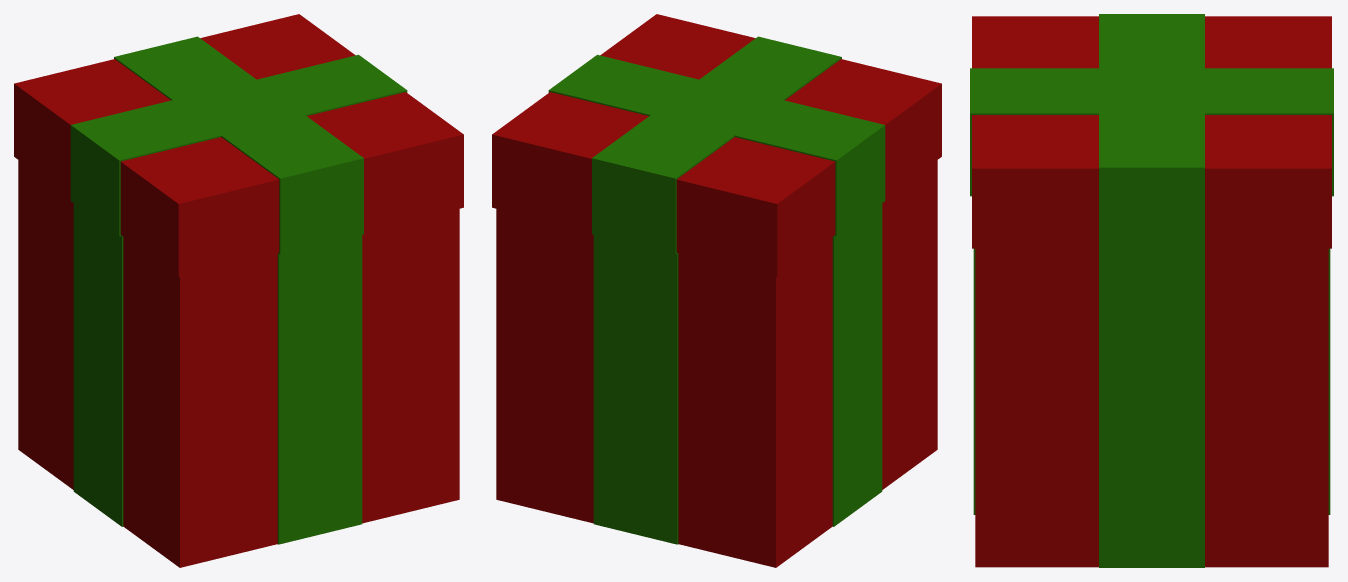
The model's file is Present1.fbx.
3 renders of one model, left to right at view 1: azimuth 30°, elevation 25°; view 2: azimuth 150°, elevation 25°; view 3: azimuth 270°, elevation 25°, orthographic. The views are drawn at different scales.
Parts seen in each view (by area): view 1: Cube, Plane.002, Cube.001; view 2: Cube, Plane.002, Cube.001; view 3: Cube, Plane.002, Cube.001.
Boxes of the visible parts, box(x1,y1,x2,y2) form: Cube: box(18, 160, 459, 567); Plane.002: box(70, 36, 407, 544); Cube.001: box(14, 14, 463, 276); Cube: box(496, 160, 937, 567); Plane.002: box(548, 36, 885, 544); Cube.001: box(492, 14, 941, 276); Cube: box(975, 248, 1328, 567); Plane.002: box(970, 14, 1333, 567); Cube.001: box(972, 16, 1331, 248).
Size of the model in its own units: 206 by 251 by 206.
